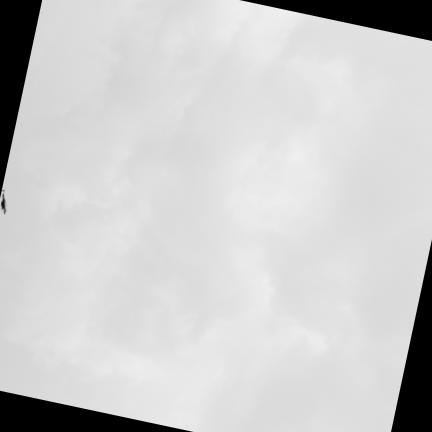Shahed: (1, 190, 5, 213)
